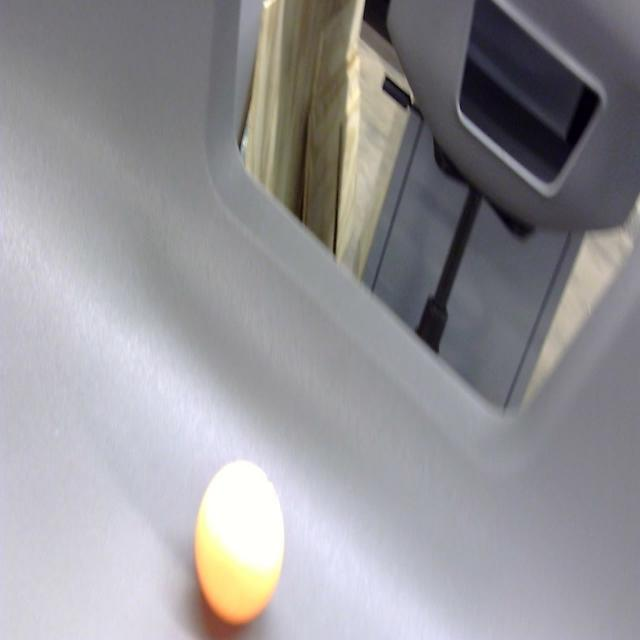ball: (192, 454, 288, 632)
